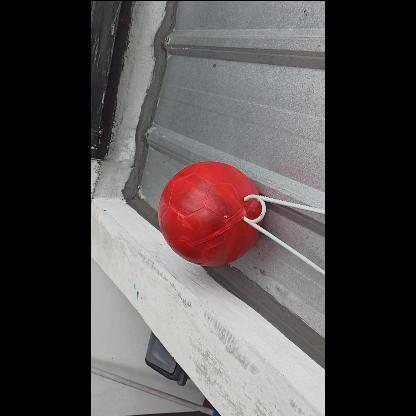red_ball: (158, 160, 262, 264)
